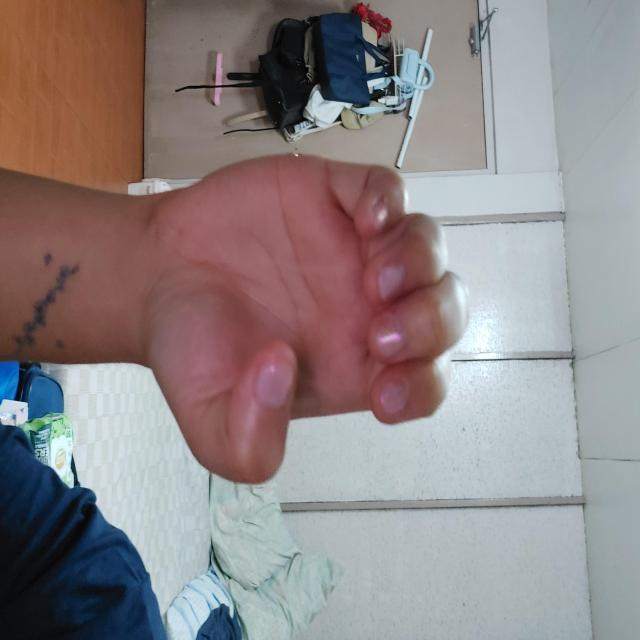E: (153, 170, 485, 495)
